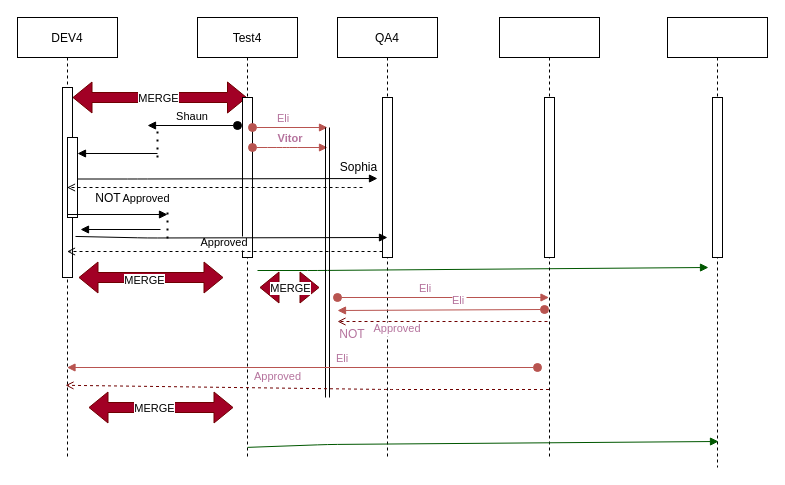
Some shapes in this 785 by 485 pixel diagram are drawn without their labels. The shapes that lost their labels are listed below. From the top down, each one's centre as x and y in pixels, then its label:
pixel 549 237: Test Env 4
pixel 717 242: Clients
